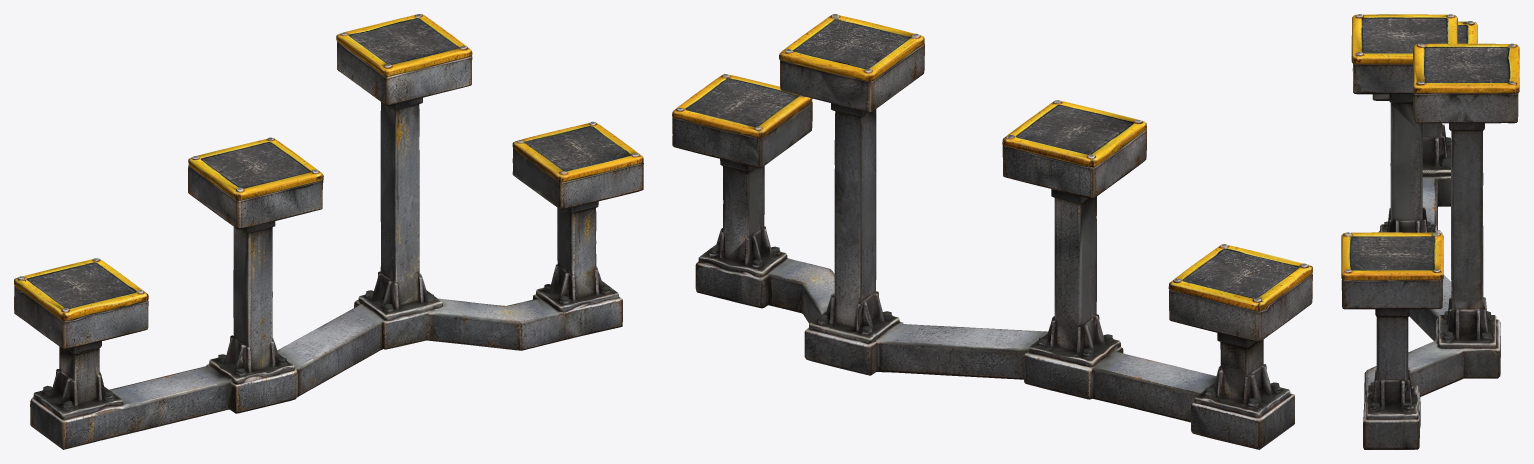
File: platform.glb
The picture shows the model from 3 angles, left to right: view 1: azimuth 30°, elevation 25°; view 2: azimuth 150°, elevation 25°; view 3: azimuth 270°, elevation 25°; orthographic projection. The views are drawn at different scales.
Visible parts, largest first — view 1: tripo_node_4270f8db-ce71-4c73-9a5d-369996437da5; view 2: tripo_node_4270f8db-ce71-4c73-9a5d-369996437da5; view 3: tripo_node_4270f8db-ce71-4c73-9a5d-369996437da5.
Part boxes in pixels (bbox=[...]): tripo_node_4270f8db-ce71-4c73-9a5d-369996437da5: bbox=[14, 14, 643, 449]; tripo_node_4270f8db-ce71-4c73-9a5d-369996437da5: bbox=[672, 14, 1312, 449]; tripo_node_4270f8db-ce71-4c73-9a5d-369996437da5: bbox=[1341, 14, 1519, 449].
Size of the model in its own units: 0.9792 by 0.4823 by 0.2583.
Materials: 1 (1 with a texture image).
